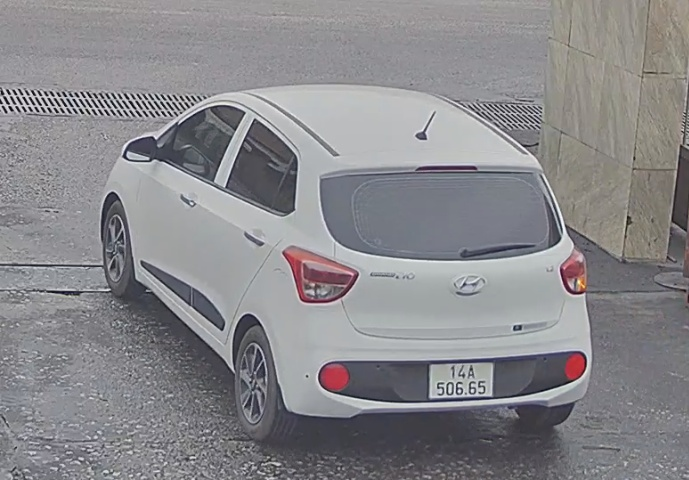vehicle plate: (420, 356, 504, 407)
